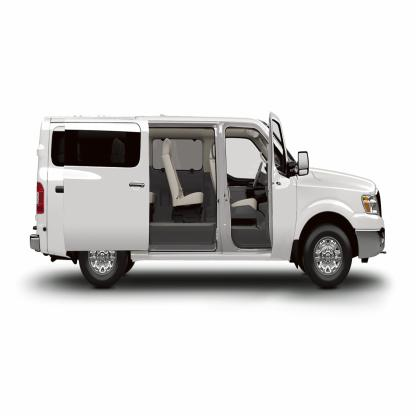Vehicle: (30, 116, 386, 290)
